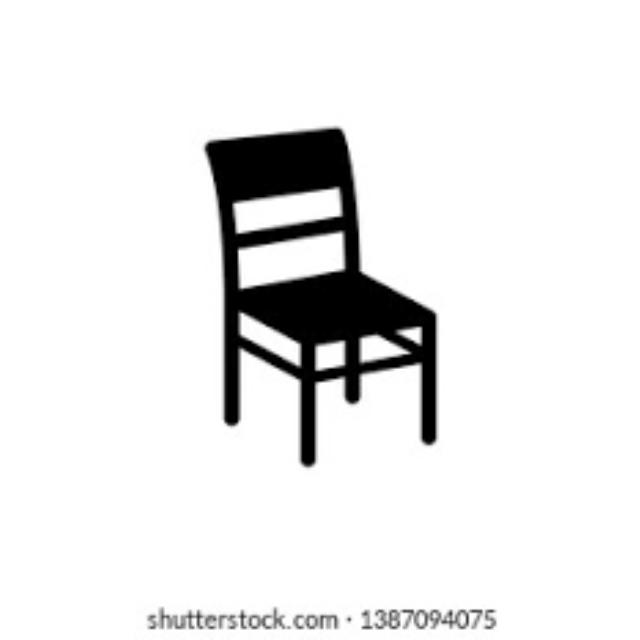obstacle: (178, 96, 482, 504)
